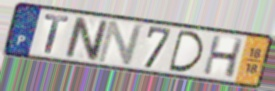7: (144, 25, 173, 70)
D: (167, 29, 205, 75)
H: (201, 34, 246, 80)
N: (95, 19, 146, 66), (63, 15, 110, 63)
T: (43, 13, 70, 56)
